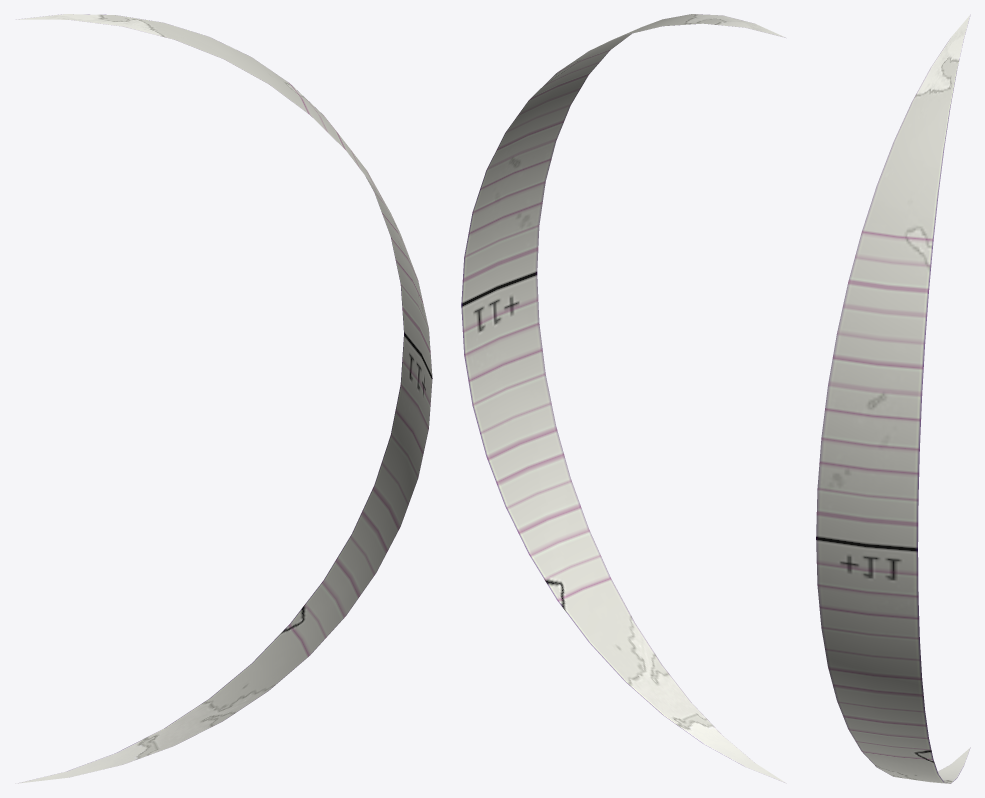
Rendered from GMTP11.obj.
3 views of the same model, side by side, from view 1: azimuth 30°, elevation 25°; view 2: azimuth 150°, elevation 25°; view 3: azimuth 270°, elevation 25° (orthographic). The views are drawn at different scales.
Parts seen in each view (by area): view 1: GMTP11; view 2: GMTP11; view 3: GMTP11.
Part boxes in pixels (bbox=[...]): GMTP11: bbox=[15, 14, 432, 783]; GMTP11: bbox=[461, 14, 786, 783]; GMTP11: bbox=[816, 14, 970, 783].
Size of the model in its own units: 254 by 512 by 97.93.
1 material, 1 textured.
